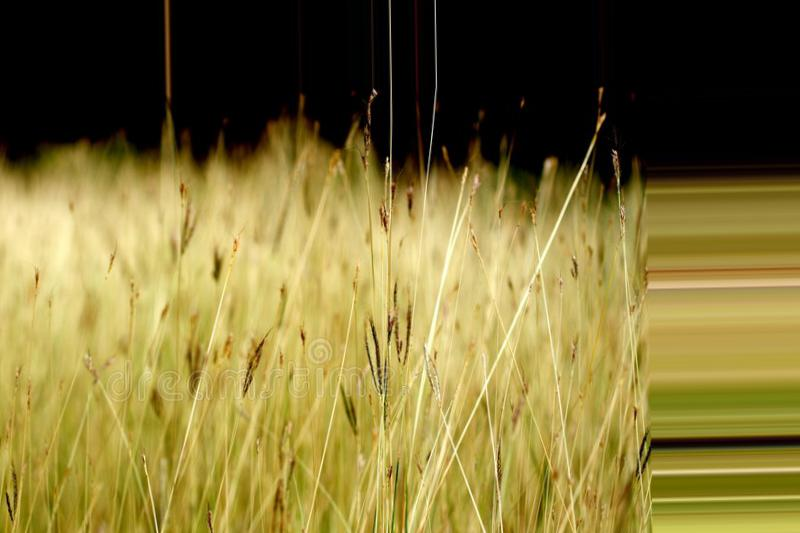patch: (375, 251, 435, 279)
